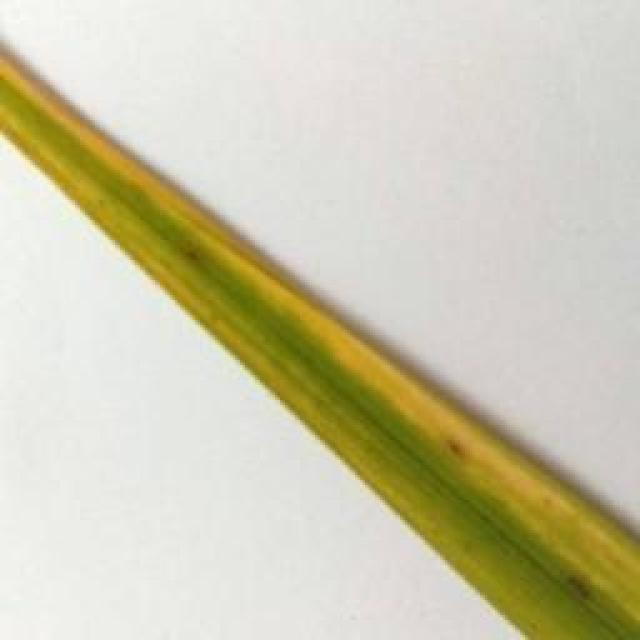Bacterial_Blight: (0, 39, 640, 630), (0, 108, 400, 496)
Brown_Spot: (551, 561, 600, 606), (175, 233, 216, 277), (438, 436, 470, 461)
